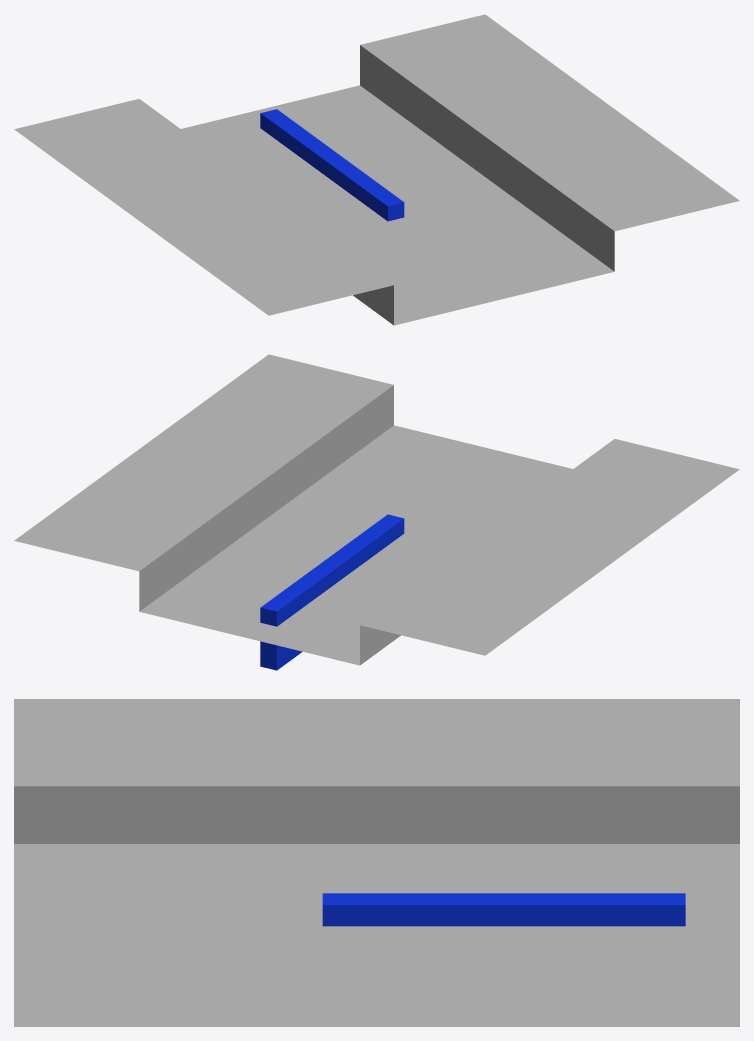
File: ship3_003.glb
3 renders of one model, top to bottom at view 1: azimuth 30°, elevation 25°; view 2: azimuth 150°, elevation 25°; view 3: azimuth 270°, elevation 25°, orthographic. The views are drawn at different scales.
Parts seen in each view (by area): view 1: Plane.003, Cube.006; view 2: Plane.003, Cube.006; view 3: Plane.003, Cube.006.
Part boxes in pixels (box(x1,y1,x2,y2)): Plane.003: box(14, 14, 739, 325); Cube.006: box(260, 109, 404, 221); Plane.003: box(14, 354, 739, 665); Cube.006: box(260, 514, 404, 670); Plane.003: box(14, 699, 739, 1026); Cube.006: box(322, 893, 685, 926).
Size of the model in its own units: 427 by 73 by 400.
